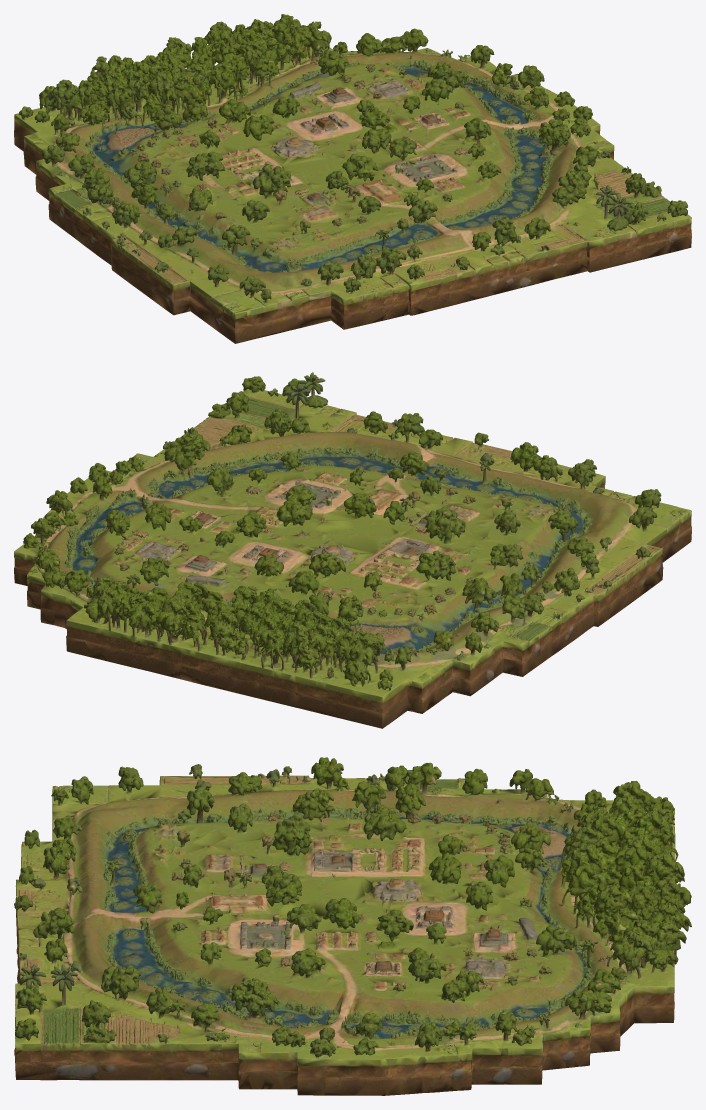
Rendered from sap-champa.glb.
3 views of the same model, one above another, from view 1: azimuth 30°, elevation 25°; view 2: azimuth 150°, elevation 25°; view 3: azimuth 270°, elevation 25° (orthographic). The views are drawn at different scales.
Bounding box in the file's own units: 1.9 × 0.274 × 1.9.
Materials: 1 (1 with a texture image).
